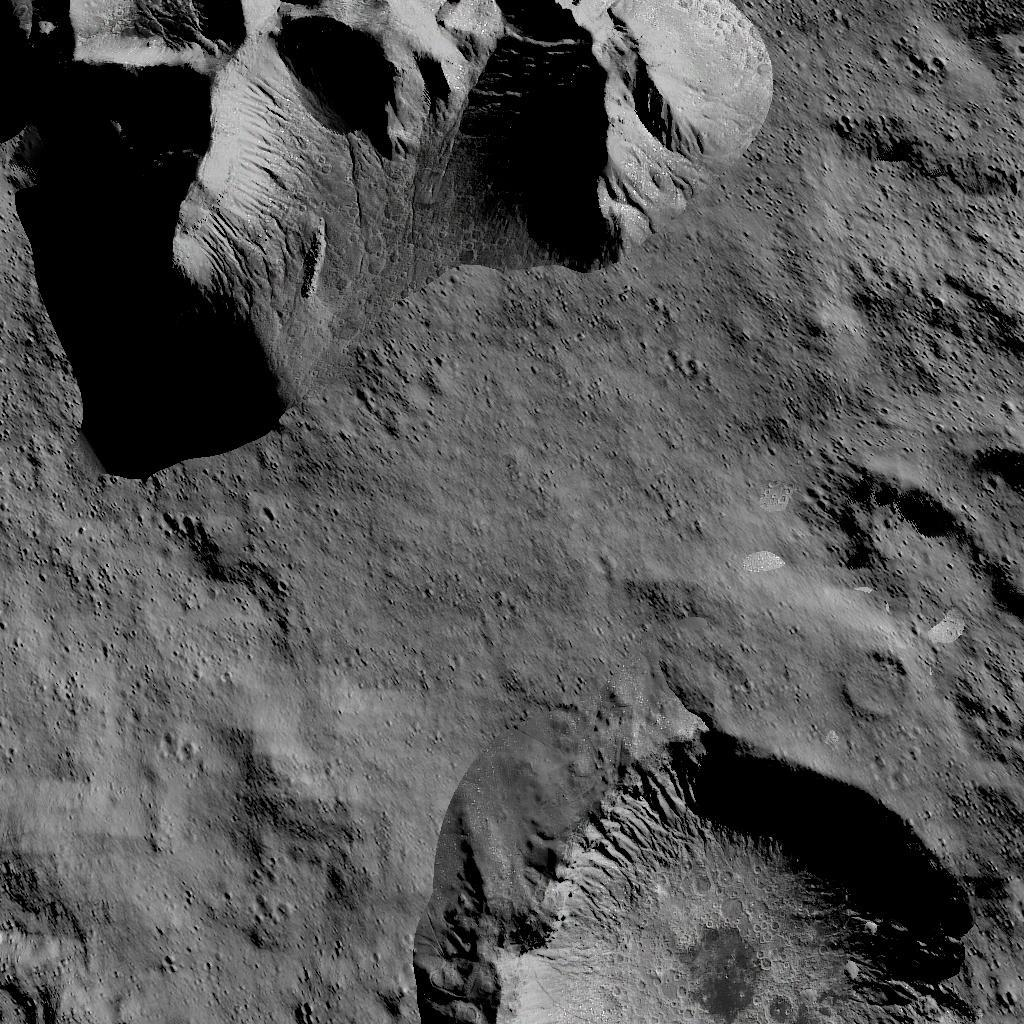Boulders: (0, 0, 775, 488)
Crater: (431, 710, 1024, 1024), (827, 434, 1024, 650), (0, 952, 54, 1024)
Plan surface: (4, 518, 392, 911), (817, 0, 1024, 383), (418, 502, 794, 682)
